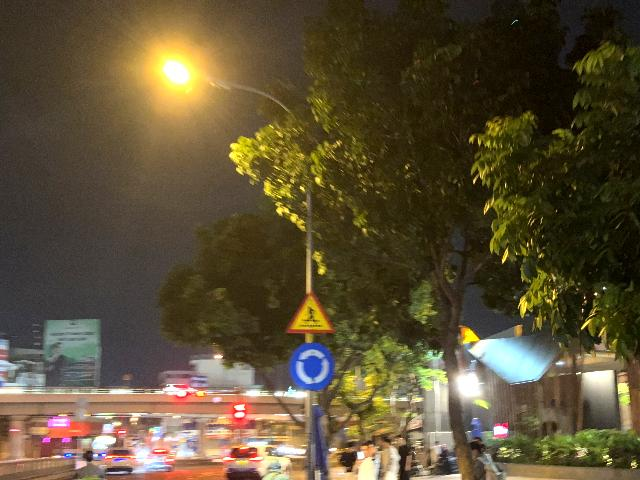duong-nguoi-di-bo-cat-ngang: (286, 290, 335, 334)
noi-giao-nhau-chay-theo-vong-xuyen: (290, 340, 335, 391)
